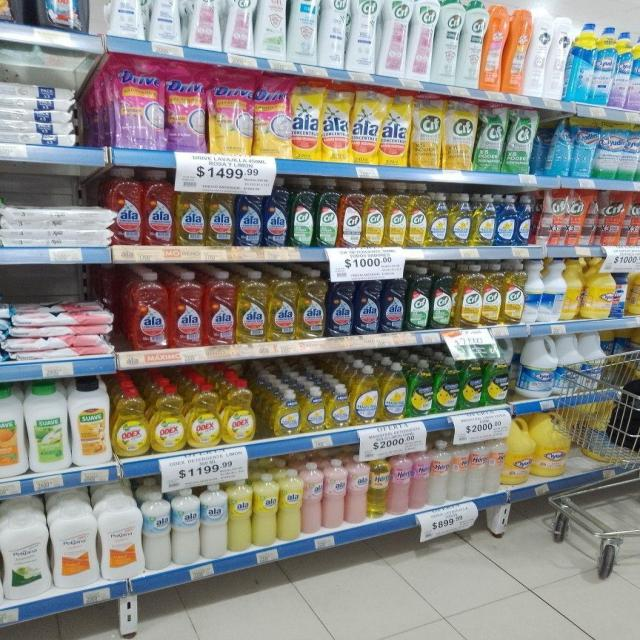ala_conc_amarillo: (237, 269, 267, 344), (268, 268, 296, 342), (298, 268, 326, 339), (176, 180, 205, 247), (207, 180, 234, 247)
ala_conc_azul: (236, 179, 262, 247), (354, 268, 380, 336), (264, 177, 288, 247), (328, 270, 353, 337), (381, 267, 406, 333)
ala_conc_rojo: (128, 270, 168, 351), (170, 270, 203, 348), (110, 168, 143, 246), (204, 270, 236, 346), (144, 169, 174, 247)
ala_crem_amarillo: (228, 476, 252, 552), (253, 472, 277, 548), (278, 467, 302, 542)
ala_crem_blanco: (142, 491, 171, 571), (172, 486, 200, 566), (201, 481, 227, 560)
ala_crem_rosado: (323, 458, 345, 530), (346, 456, 368, 525), (302, 461, 322, 535)
ala_sachet_amarillo: (292, 78, 320, 160), (380, 90, 410, 166), (321, 82, 349, 162), (351, 86, 379, 164)
cif_conc_bot_amarilla: (456, 264, 482, 328), (364, 180, 386, 248), (503, 260, 524, 326), (386, 182, 406, 247), (407, 183, 427, 248), (482, 262, 502, 326)
cif_conc_botella_roja: (339, 180, 362, 248)
cif_conc_botella_verde: (290, 178, 314, 248), (315, 178, 338, 248), (431, 265, 454, 329), (408, 266, 430, 331)
cif_conc_sachet_amarillo: (411, 92, 442, 168), (443, 97, 475, 170)
cif_conc_sachet_verde: (476, 102, 504, 172), (506, 106, 534, 174)
drive: (106, 55, 164, 150), (209, 67, 252, 156), (166, 61, 206, 153), (254, 73, 290, 158)
heroe: (368, 454, 389, 519), (390, 451, 410, 515), (430, 440, 449, 506), (411, 445, 428, 511), (468, 440, 486, 498)
magistral_con_amarillo: (351, 364, 379, 425), (381, 362, 406, 421), (448, 192, 472, 247), (273, 388, 300, 436), (473, 193, 495, 246), (428, 192, 448, 248), (301, 386, 325, 432), (327, 384, 350, 428)
magistral_con_azul: (496, 193, 516, 246), (516, 194, 533, 246)
odex: (113, 382, 148, 457), (150, 382, 186, 452), (187, 380, 221, 448), (222, 379, 256, 444)
